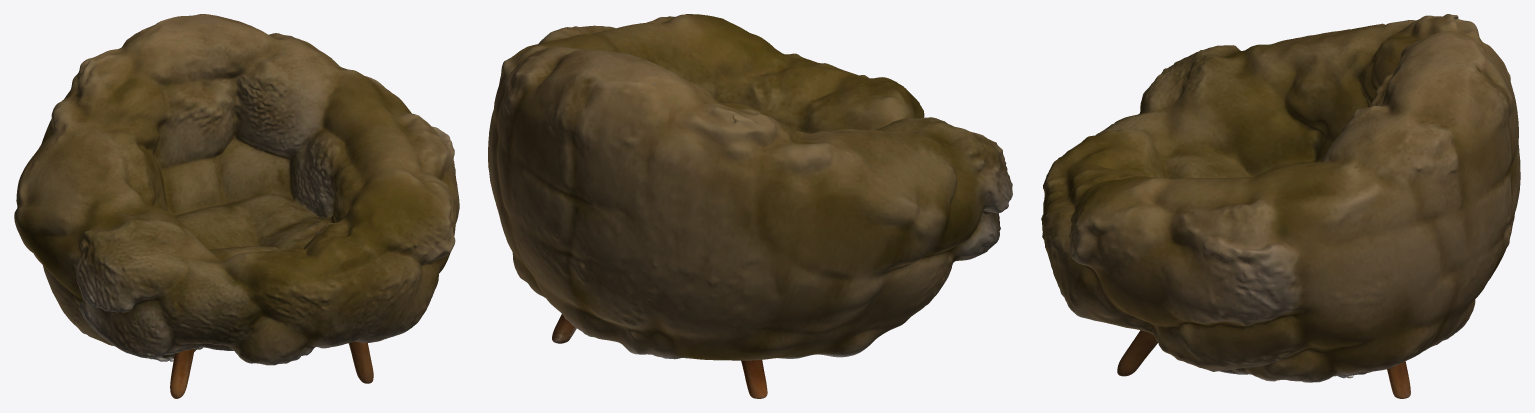
The model's file is item-7.glb.
3 views of the same model, side by side, from view 1: azimuth 30°, elevation 25°; view 2: azimuth 150°, elevation 25°; view 3: azimuth 270°, elevation 25° (orthographic). The views are drawn at different scales.
Parts seen in each view (by area): view 1: geometry_0; view 2: geometry_0; view 3: geometry_0.
Part boxes in pixels (<box>): geometry_0: <box>14,14,459,398</box>; geometry_0: <box>488,14,1012,398</box>; geometry_0: <box>1041,14,1520,398</box>.
Bounding box in the file's own units: 1 × 0.6404 × 0.9156.
Materials: 1 (1 with a texture image).
